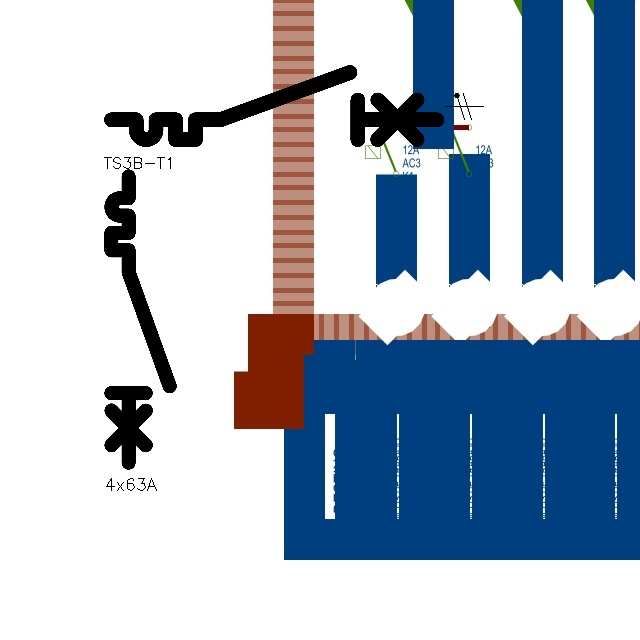interruptor_termomagnetico: (103, 64, 445, 148), (104, 169, 177, 470)
